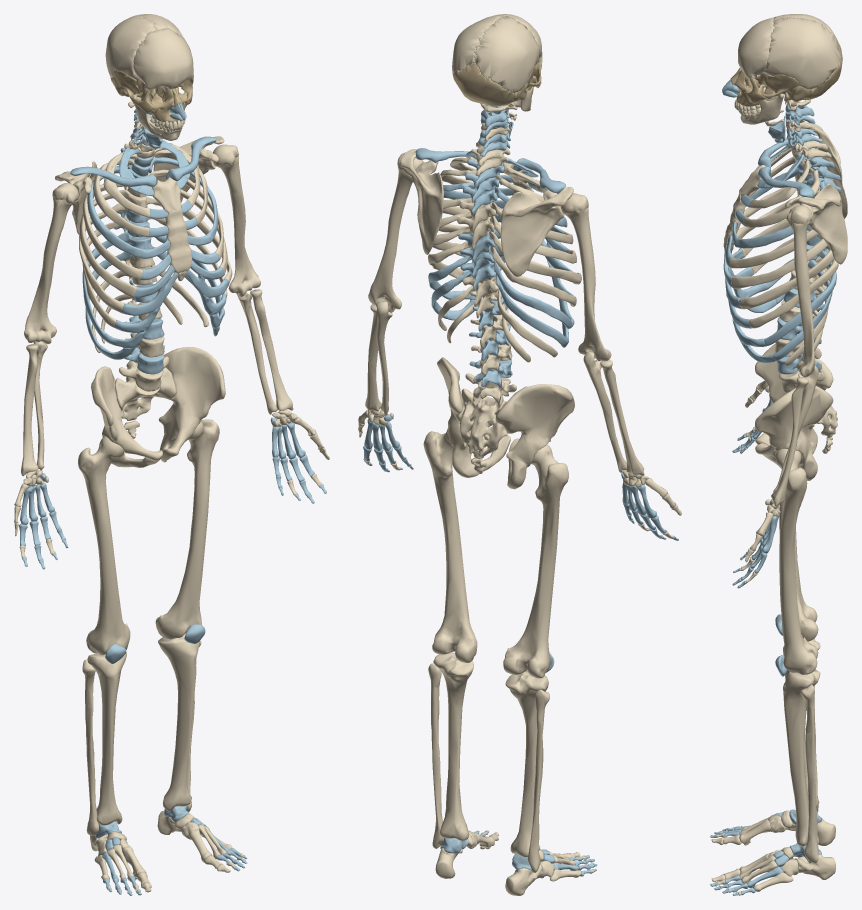
The model's file is skeletal.glb.
3 views of the same model, side by side, from view 1: azimuth 30°, elevation 25°; view 2: azimuth 150°, elevation 25°; view 3: azimuth 270°, elevation 25° (orthographic). The views are drawn at different scales.
Visible parts, largest first — view 1: Femur.r.001, Femur.l.001, Hip bone.l.001, Tibia.l.001, Frontal bone.001, Tibia.r.001, Humerus.r.001, Humerus.l.001, Hip bone.r.001, Parietal bone.r.001, Sacrum.001, Fibula.r.001 (+18 smaller); view 2: Femur.r.001, Femur.l.001, Hip bone.r.001, Scapula.r.001, Parietal bone.r.001, Tibia.l.001, Tibia.r.001, Humerus.r.001, Humerus.l.001, Hip bone.l.001, Scapula.l.001, Sacrum.001 (+15 smaller); view 3: Femur.l.001, Parietal bone.l.001, Tibia.l.001, Hip bone.l.001, Humerus.l.001, Scapula.l.001, Fibula.l.001, Frontal bone.001, Hip bone.r.001, Radius.l.001, Femur.r.001, Seventh rib.l.001 (+28 smaller).
Part boxes in pixels (x1=…): Femur.r.001: x1=78, y1=436, x2=130, y2=655; Femur.l.001: x1=155, y1=419, x2=219, y2=639; Hip bone.l.001: x1=158, y1=347, x2=225, y2=462; Tibia.l.001: x1=158, y1=633, x2=200, y2=811; Frontal bone.001: x1=133, y1=28, x2=193, y2=91; Tibia.r.001: x1=87, y1=652, x2=126, y2=825; Humerus.r.001: x1=24, y1=183, x2=78, y2=344; Humerus.l.001: x1=212, y1=144, x2=260, y2=296; Hip bone.r.001: x1=91, y1=366, x2=162, y2=467; Parietal bone.r.001: x1=105, y1=15, x2=157, y2=79; Sacrum.001: x1=115, y1=367, x2=175, y2=420; Fibula.r.001: x1=82, y1=659, x2=99, y2=835; Femur.r.001: x1=503, y1=444, x2=568, y2=678; Femur.l.001: x1=423, y1=428, x2=477, y2=662; Hip bone.r.001: x1=495, y1=384, x2=574, y2=489; Scapula.r.001: x1=500, y1=187, x2=573, y2=276; Parietal bone.r.001: x1=474, y1=16, x2=539, y2=93; Tibia.l.001: x1=433, y1=652, x2=473, y2=840; Tibia.r.001: x1=505, y1=671, x2=548, y2=857; Humerus.r.001: x1=561, y1=193, x2=611, y2=361; Humerus.l.001: x1=368, y1=152, x2=423, y2=312; Hip bone.l.001: x1=437, y1=357, x2=510, y2=477; Scapula.l.001: x1=400, y1=149, x2=443, y2=254; Sacrum.001: x1=459, y1=388, x2=507, y2=458; Femur.l.001: x1=775, y1=448, x2=818, y2=674; Parietal bone.l.001: x1=763, y1=17, x2=840, y2=89; Tibia.l.001: x1=783, y1=669, x2=820, y2=846; Hip bone.l.001: x1=755, y1=386, x2=833, y2=480; Humerus.l.001: x1=786, y1=205, x2=815, y2=377; Scapula.l.001: x1=785, y1=183, x2=847, y2=264; Fibula.l.001: x1=800, y1=684, x2=818, y2=863; Frontal bone.001: x1=738, y1=17, x2=774, y2=78; Hip bone.r.001: x1=755, y1=343, x2=833, y2=453; Radius.l.001: x1=771, y1=377, x2=808, y2=506; Femur.r.001: x1=779, y1=470, x2=818, y2=641; Seventh rib.l.001: x1=739, y1=249, x2=834, y2=309.
Bounding box in the file's own units: 0.6692 × 1.7 × 0.2501.
